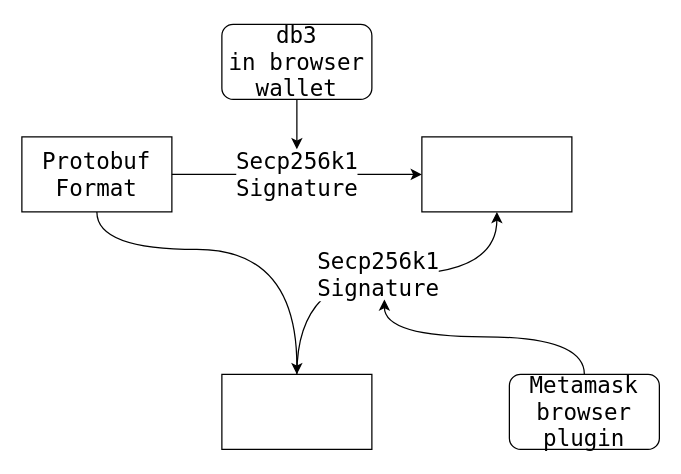
The diagram is 681 pixels wide and 474 high, and some of its shapes have lost their labels. The centre of each missing label's shape, as x and y in pixels:
DB3 Node: (x=496, y=174)
TypedData Format: (x=296, y=411)
